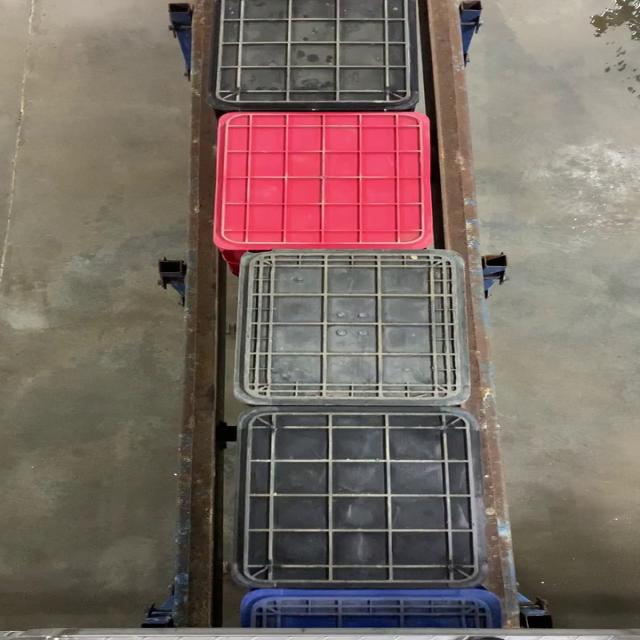Box: (235, 404, 492, 586), (213, 113, 437, 250)
Damaged_box: (230, 250, 470, 404)
